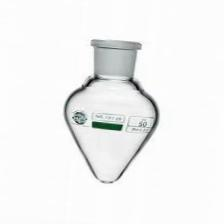Pear shaped flask: (55, 43, 165, 188)
